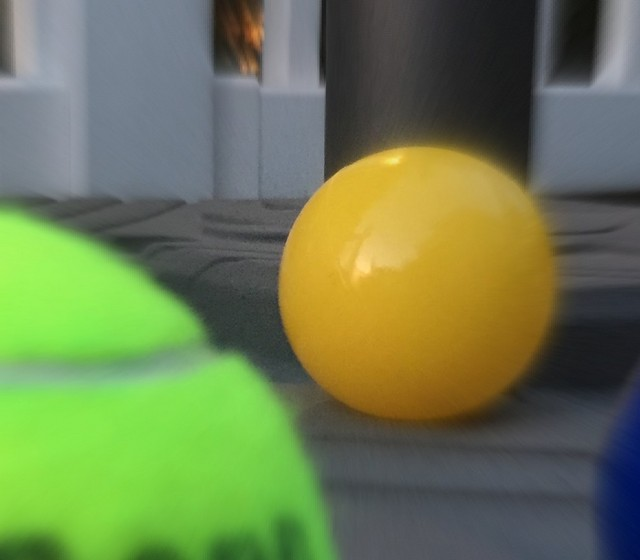Ball: (285, 145, 556, 421)
